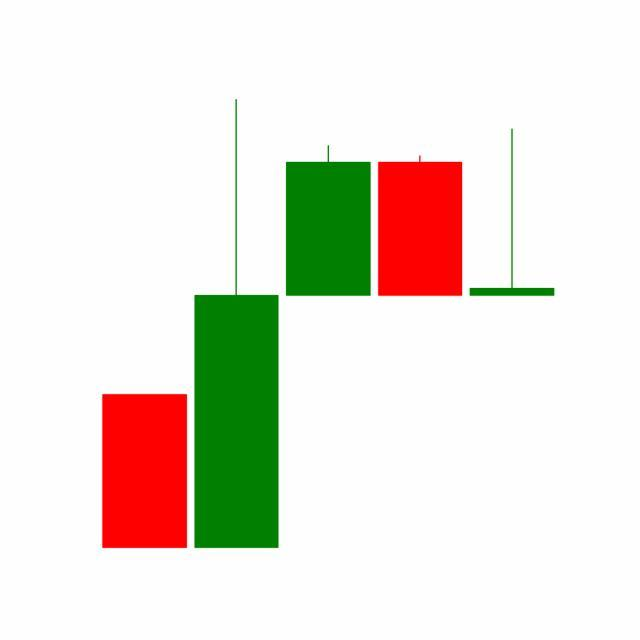Marubozu: (374, 155, 468, 298)
